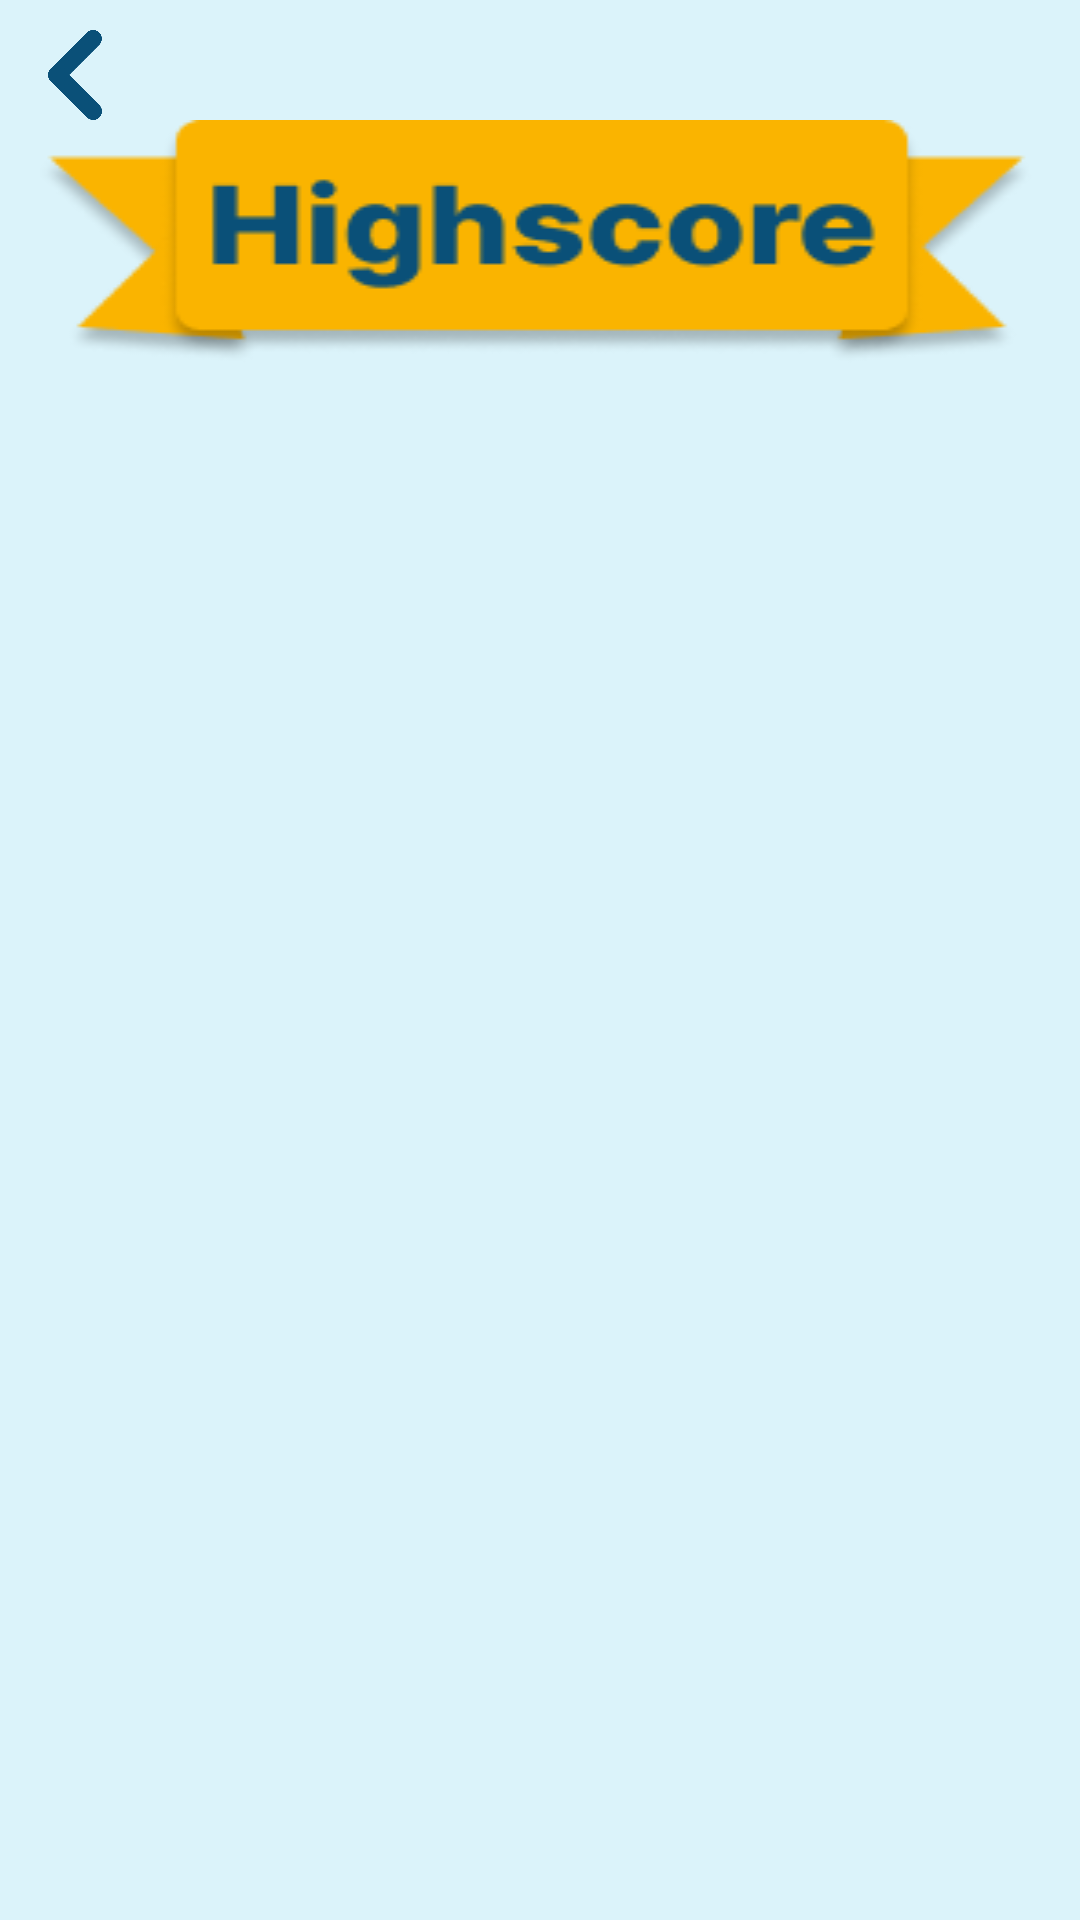

Icons on this 1080px x 1920px Android screen, each with its box as (left=x1, top=y1, right=x2, bottom=y2):
goback: (left=48, top=30, right=102, bottom=120)
